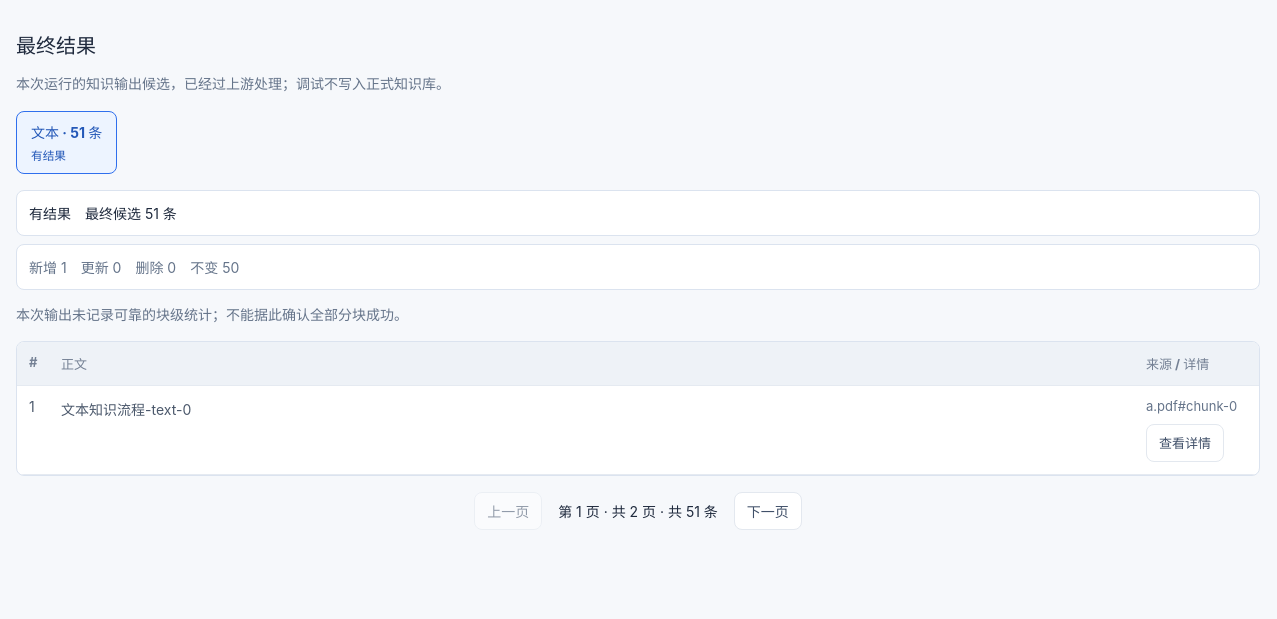
Test: 文本知识流程 exposes the common source and review detail
What coordinates should you click on to do the following:
click the button "查看详情"
I would click on:
 (1185, 443)
Its box is [1146,424,1224,462].
(page scrolled)
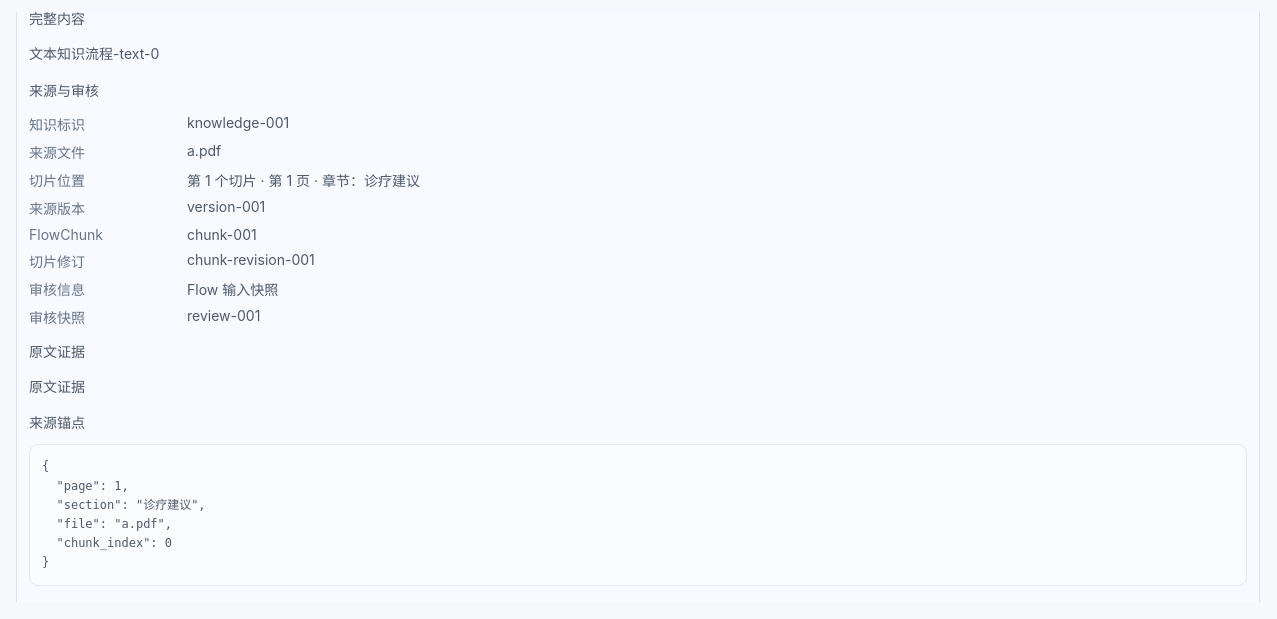
Check: the cell with class "result-detail" shows "知识标识", box [29,116,85,133]
Check: the cell with class "result-detail" shows "knowledge-001", box [187,114,289,131]
Check: the cell with class "result-detail" shows "来源文件", box [29,144,85,161]
